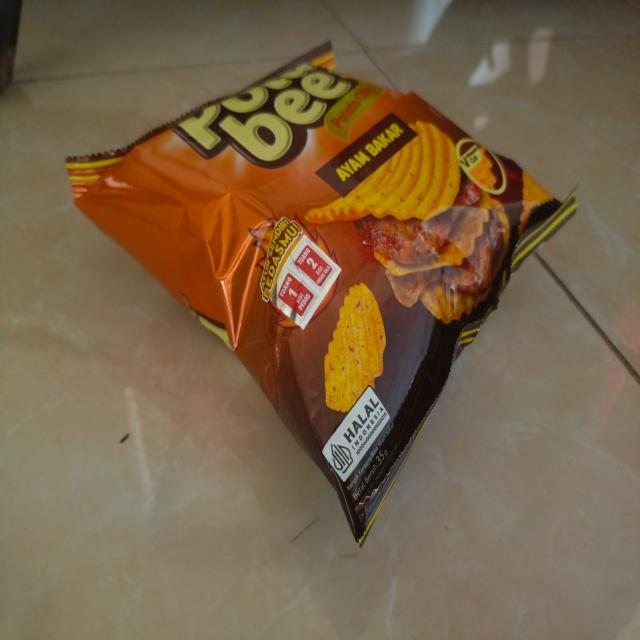potabee-ayam-bakar: (64, 39, 580, 552)
